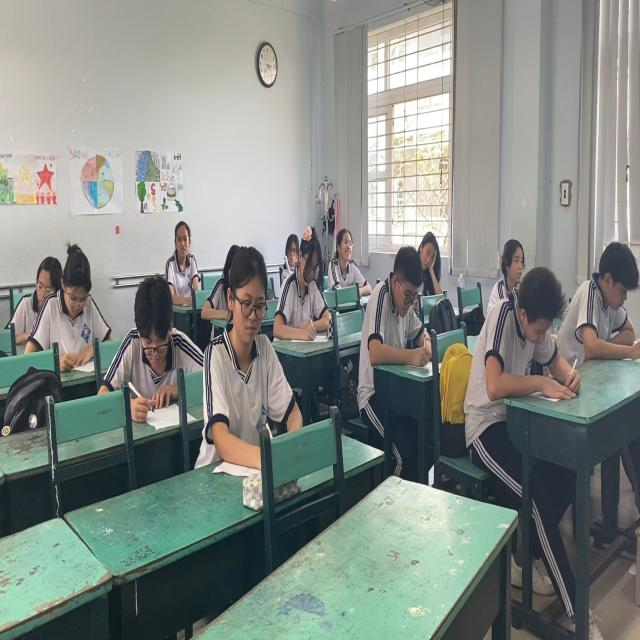not_cheating: (207, 242, 285, 437), (122, 275, 198, 414), (494, 272, 574, 388), (372, 242, 437, 368), (579, 236, 640, 364), (51, 240, 111, 348), (292, 229, 334, 335), (166, 218, 199, 296), (330, 216, 364, 289), (492, 225, 530, 282), (417, 225, 446, 289), (39, 256, 59, 312), (275, 232, 300, 269)
